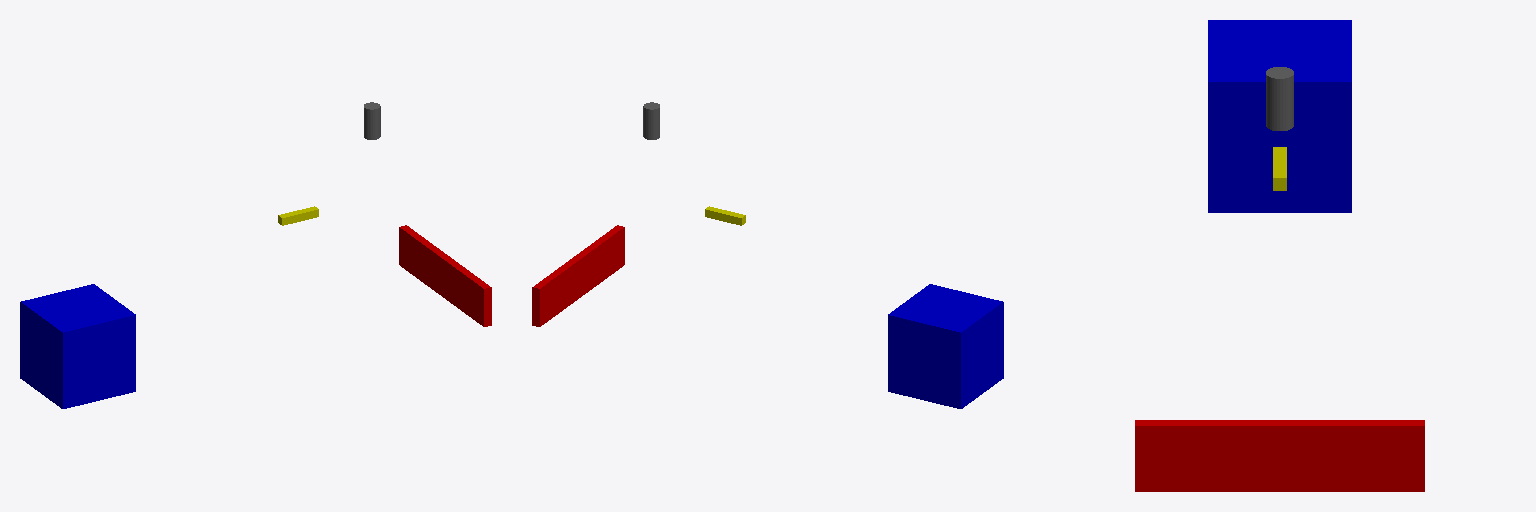
URDF robot description (shovel):
<?xml version="1.0"?>
<robot name="shovel">

  <!-- Materials -->  
  <material name="dark_grey"><color rgba="0.2 0.2 0.2 1.0" /></material>
  <material name="light_grey"><color rgba="0.4 0.4 0.4 1.0" /></material>
  <material name="yellow"><color rgba="0.8 0.8 0.0 1.0" /></material>
  <material name="black"><color rgba="0.15 0.15 0.15 1.0" /></material>
  <material name="blue"><color rgba="0 0 .8 1"/></material>
  <material name="red"><color rgba="0.8 0 0 1"/></material>
  

  <!-- base_link -->
  <!-- Fixed reference frame for the cartesian robot -->
  <link name="base_link">
    <visual>
      <origin xyz="-0.5 0 0.0" rpy="0 0 0"/>
      <geometry>        
        <!-- 1 cm radius sphere -->
        <box size="0.1 0.1 0.1"/>
      </geometry>      
      <material name="blue" />
    </visual>
    <collision>
      <origin xyz="-0.5 0 0.0" rpy="0 0 0"/>
      <geometry>        
        <!-- 1 cm radius sphere -->
        <box size="0.1 0.1 0.1"/>
      </geometry>
    </collision>
    <inertial>
      <origin xyz="-0.5 0 0.0" rpy="0 0 0"/>
      <!-- set mass to very small to keep it nearly fixed -->
      <mass value="1e4"/>
      <inertia ixx="1e4" ixy="0" ixz="0" iyy="1e4" iyz="0" izz="1e4"/>
    </inertial>
  </link>

  <!-- from base to L1: prismatic joint (X motion) -->
  <joint name="base_L1_joint" type="prismatic">
    <axis xyz="1 0 0"/> 
    <origin xyz="-0.2 0 0.1" rpy="0 0 0" />
    <parent link="base_link"/>
    <child link="L1_link" />        
    <limit lower="-10" upper="10" effort="1e2" velocity="0.5"/>
    <safety_controller k_position="10" k_velocity="10" soft_lower_limit="-9.5" soft_upper_limit="9.5"/>
    <dynamics damping="0.0" friction="0.1"/>
  </joint>

  <!-- L1_link -->
  <link name="L1_link">
    <visual>
      <origin xyz="0 0 0" rpy="0 0 0"/>
      <geometry>
        <!-- 10x5x5 cm box -->
        <box size="5e-2 1e-2 1e-2"/>
      </geometry>
      <material name="yellow" />
    </visual>
    <collision>
      <origin xyz="0 0 0" rpy="0 0 0"/>
      <geometry>
        <box size="5e-2 1e-2 1e-2"/>        
      </geometry>
    </collision>
    <inertial>      
      <origin xyz="0 0 0" rpy="0 0 0"/>
      <!-- 20 grams - 0.02 kg -->
      <mass value="20e-3"/> 
      <!-- inertia (anisotropic): m*l^2 [kg x m^2]-->   
      <inertia ixx="5e-5" ixy="0.0" ixz="0.0" iyy="2e-5" iyz="0.0" izz="5e-5"/>
      </inertial>
  </link>

  <!-- from L1 to L2: prismatic joint (Y motion) -->
  <joint name="L1_L2_joint" type="prismatic">
    <axis xyz="0 1 0"/> 
    <origin xyz="0.1 0 0.1" rpy="0 0 0" />
    <parent link="L1_link"/>
    <child link="L2_link" />        
    <limit lower="-10" upper="10" effort="1e2" velocity="0.5"/>
    <safety_controller k_position="10" k_velocity="10" soft_lower_limit="-9.5" soft_upper_limit="9.5"/>
    <dynamics damping="0.0" friction="0.1"/>
  </joint>

  <!-- L2_link -->
  <link name="L2_link">
    <visual>
      <origin xyz="0 0 0" rpy="0 0 0"/>
      <geometry>        
        <cylinder radius="1e-2" length="4e-2"/>
      </geometry>
      <material name="light_grey" />
    </visual>
    <collision>
      <origin xyz="0 0 0" rpy="0 0 0"/>
      <geometry>
        <cylinder radius="1e-2" length="4e-2"/>
      </geometry>
    </collision>
    <inertial>      
      <origin xyz="0 0 0" rpy="0 0 0"/>      
      <mass value="10e-3"/>       
      <inertia ixx="1e-5" ixy="0.0" ixz="0.0" iyy="1e-5" iyz="0.0" izz="1e-5"/>
      </inertial>
  </link>

  <!-- from L2 to EE: revolute joint (Z rotation for orientation) -->
  <joint name="L2_EE_joint" type="revolute">
    <!-- rotation along z-axis -->
    <axis xyz="0 0 1"/> 
    <origin xyz="0.1 0 -0.225" rpy="0 0 0" />
    <parent link="L2_link"/>
    <child link="EE_link" />        
    <limit lower="-3.14159" upper="3.14159" effort="1e2" velocity="0.5"/>
    <safety_controller k_position="10" k_velocity="10" soft_lower_limit="-3.14" soft_upper_limit="3.14"/>
    <dynamics damping="0.0" friction="0.1"/>
  </joint>

  <!-- EE_link (end effector) -->
  <link name="EE_link">
    <visual>
      <origin xyz="0 0 0" rpy="0 0 0"/>
      <geometry>        
        <!-- 10x20x10 cm box -->
        <box size="1e-2 2e-1 5e-2"/>
      </geometry>   
      <material name="red" />   
    </visual>
    <collision>
      <origin xyz="0 0 0" rpy="0 0 0"/> 
      <geometry>
        <box size="1e-2 2e-1 5e-2"/>   
      </geometry>     
    </collision>
    <inertial>      
      <origin xyz="0 0 0" rpy="0 0 0"/>
      <!-- 20 grams - 0.02 kg-->
      <mass value="20e-3"/> 
      <!-- inertia (anisotropic): m*l^2 [kg x m^2]-->
      <inertia ixx="5e-5" ixy="0.0" ixz="0.0" iyy="2e-4" iyz="0.0" izz="5e-5"/>
      </inertial>
  </link>
  
</robot>

--- Render facts (derived) ---
3 views of the same robot in one strip: view 1: azimuth 30°, elevation 25°; view 2: azimuth 150°, elevation 25°; view 3: azimuth 270°, elevation 25° (orthographic).
Robot: shovel — 4 links, 3 joints (1 revolute, 2 prismatic); root link base_link; default pose: all joints at 0.
Links seen in each view (by area): view 1: base_link, EE_link, L2_link; view 2: base_link, EE_link, L2_link; view 3: base_link, EE_link, L2_link, L1_link.
Link boxes in pixels (x1,y1,x2,y2): base_link: (20,284,135,408); EE_link: (399,225,491,326); L2_link: (364,102,380,139); base_link: (888,284,1003,408); EE_link: (532,225,624,326); L2_link: (643,102,659,139); base_link: (1208,20,1351,212); EE_link: (1135,420,1424,491); L2_link: (1266,67,1293,130); L1_link: (1273,147,1286,190).
Bounding box of the posed robot: 0.555 × 0.2 × 0.27 m (x, y, z).
Geometry: primitives only (box / cylinder / sphere), no mesh files.
